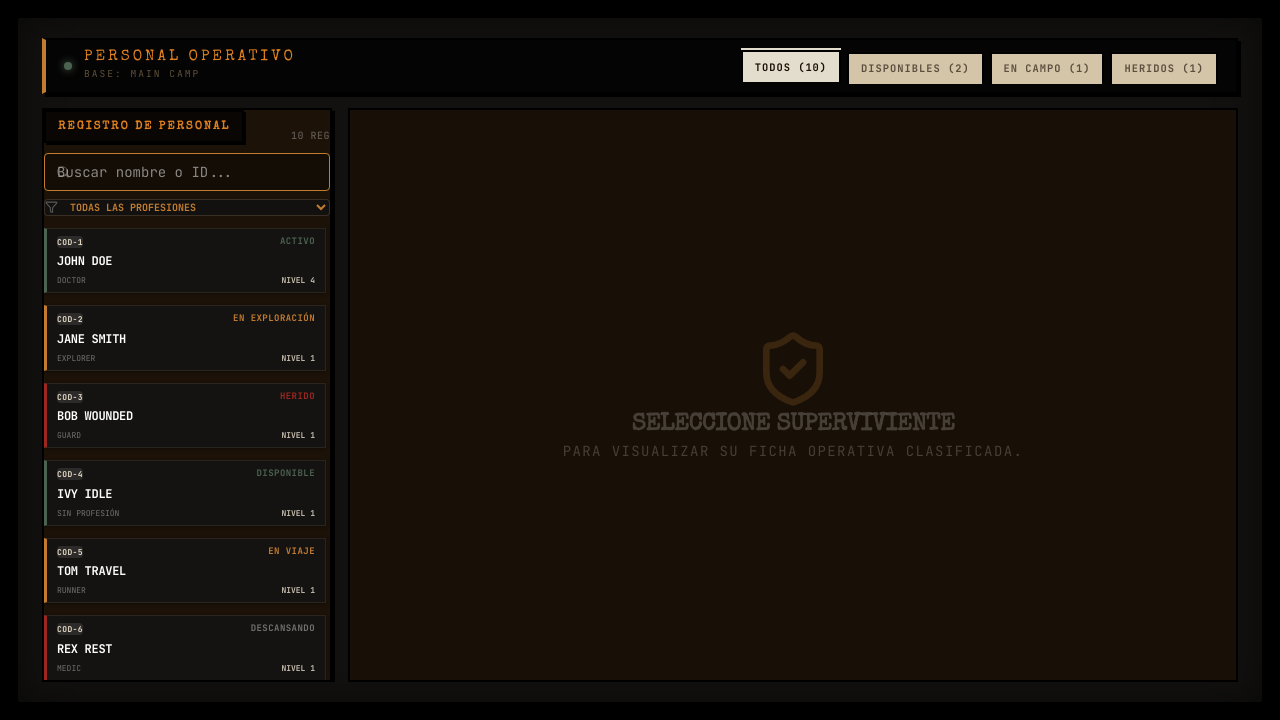
it: TravelTeam › filters persons by search input
Step 1. Type "jane" into the field with placeholder "Buscar nombre o ID..." → (187, 172), box x1=44 y1=153 x2=330 y2=191
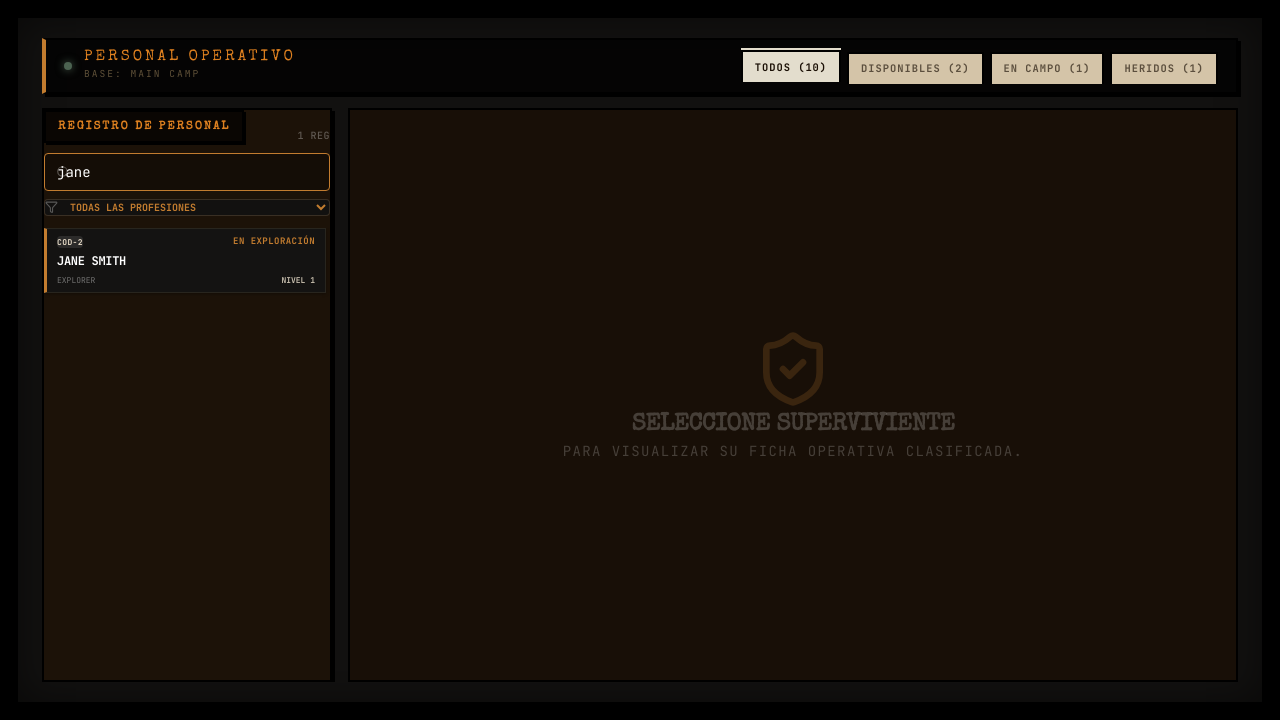
Expected: the heading "Jane Smith" is shown, x1=57 y1=253 x2=126 y2=269
Expected: the button "John Doe" is gone
